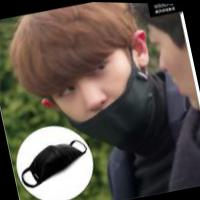NONE: (144, 19, 200, 119)
WRONG: (34, 29, 161, 158)
